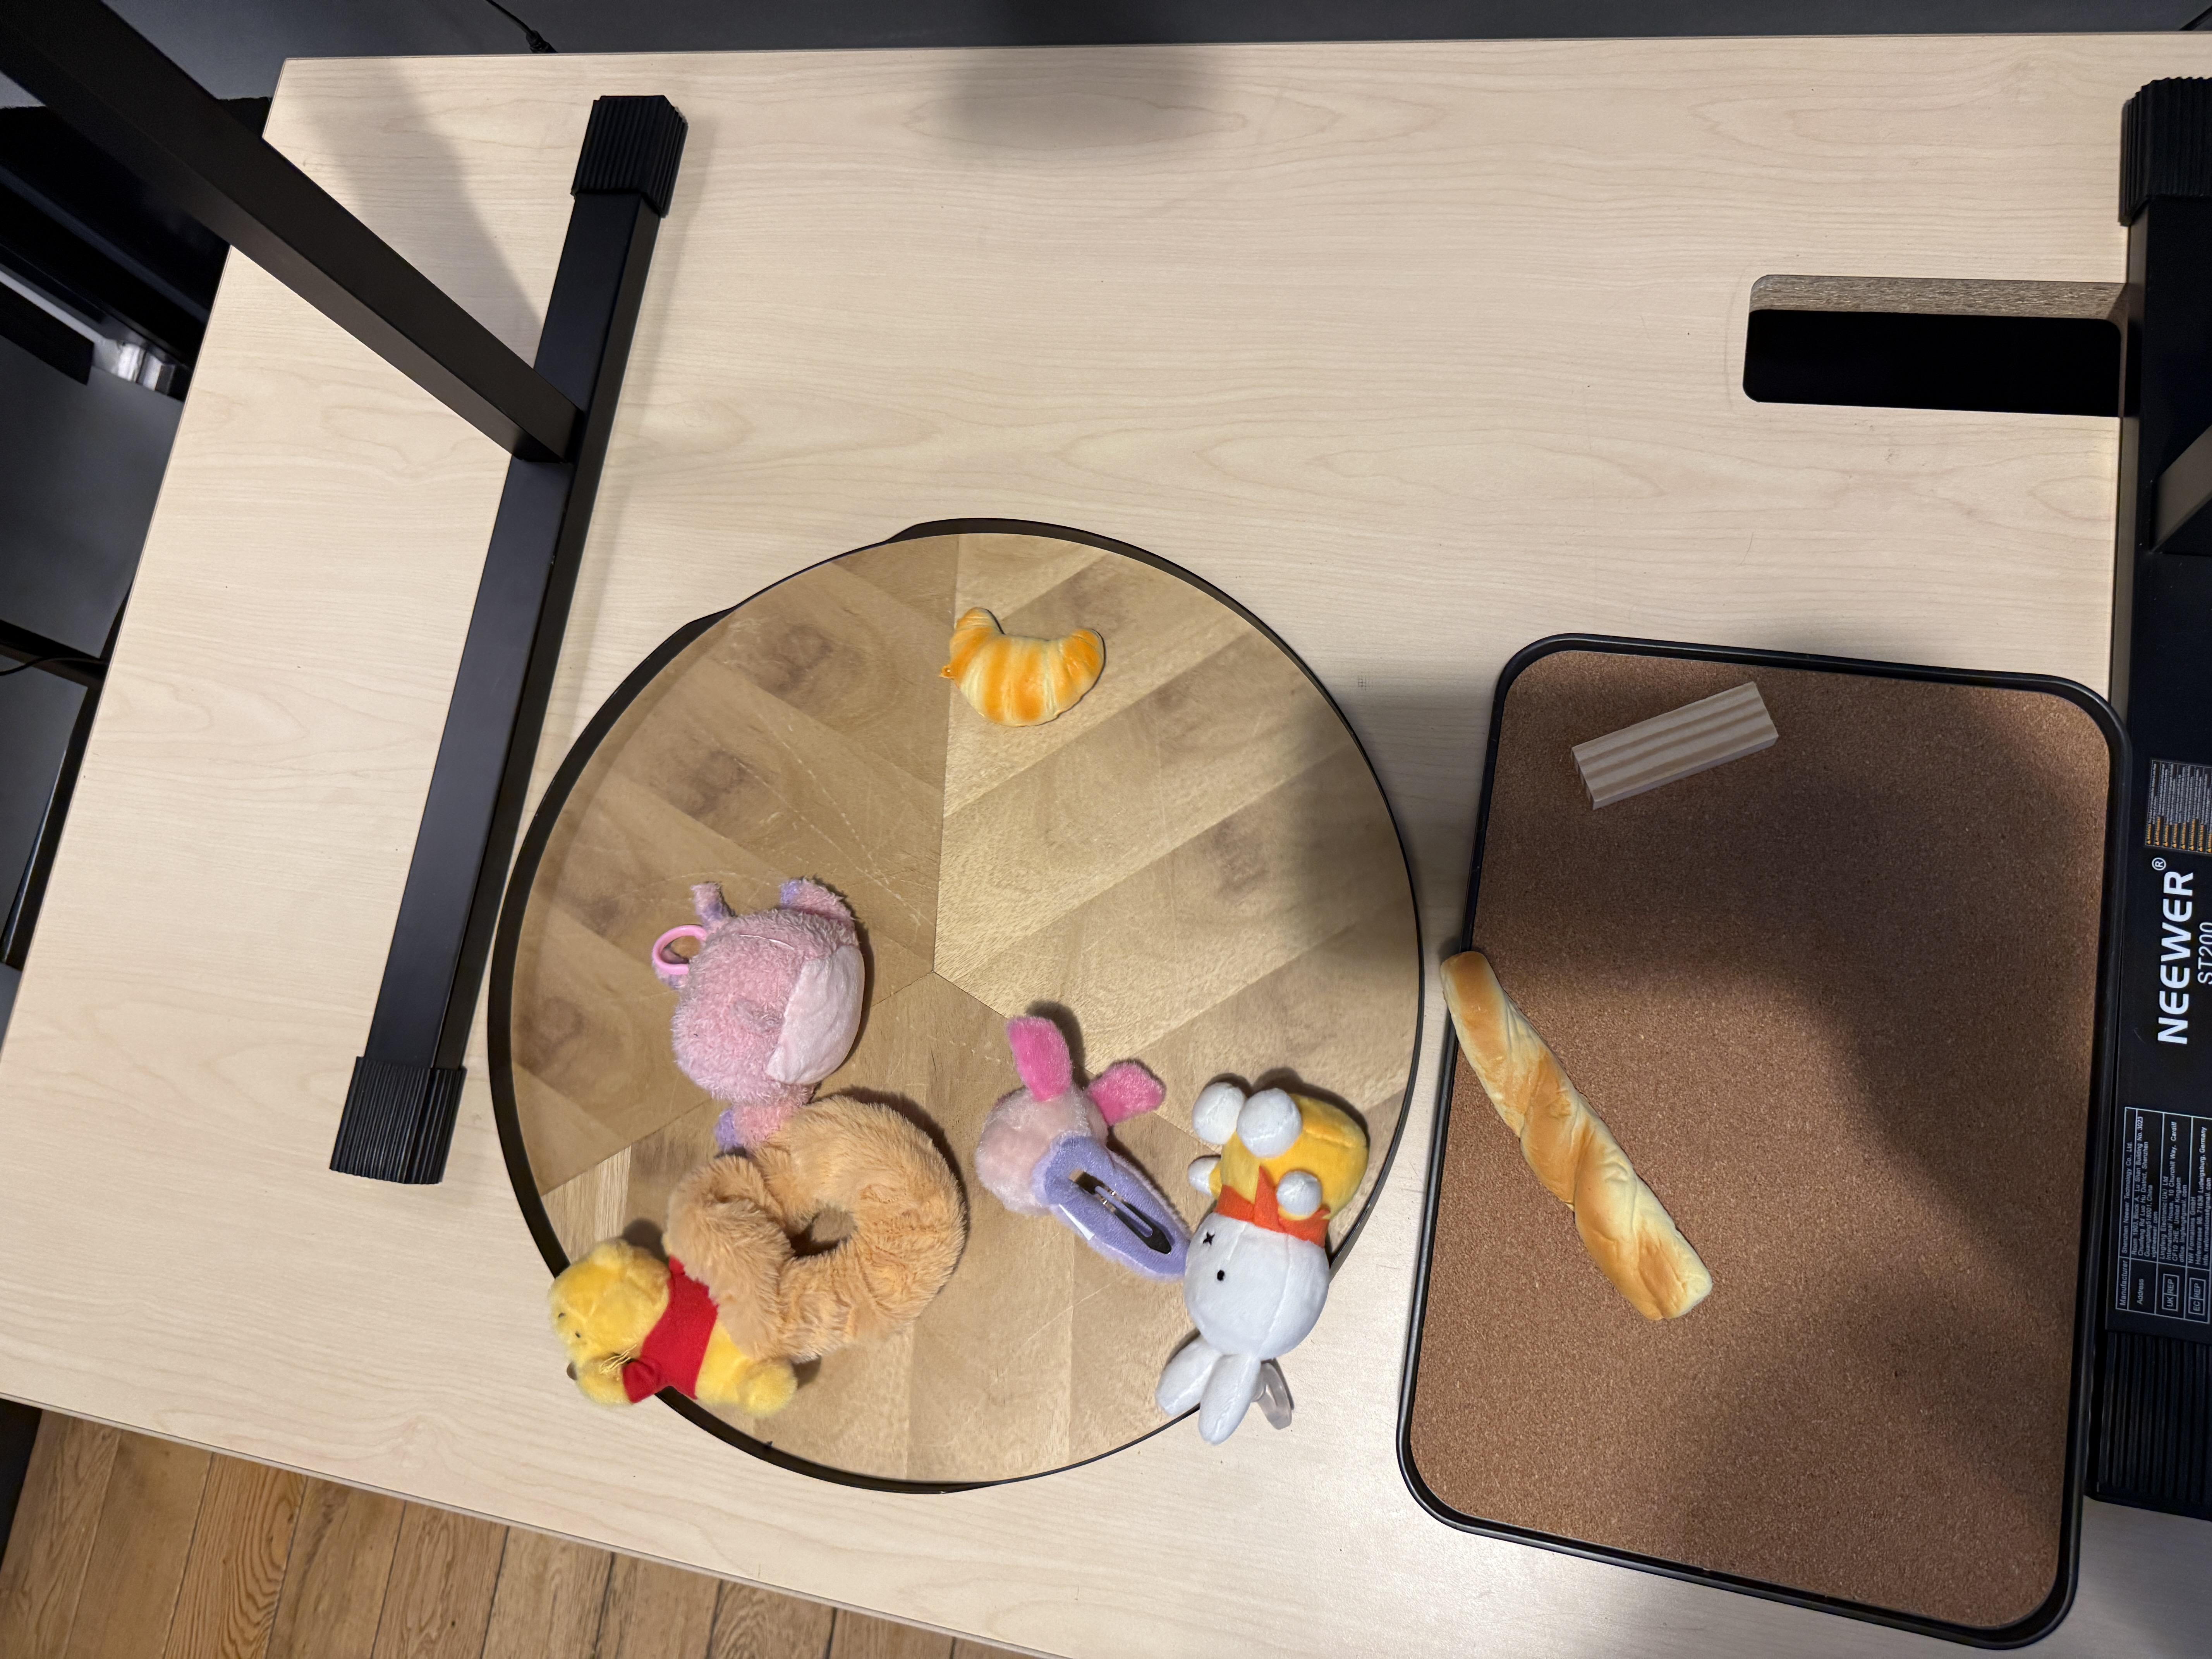block: (1571, 678, 1782, 817)
bread: (1440, 951, 1716, 1323), (946, 605, 1106, 734)
doll: (557, 1100, 967, 1422), (1151, 1075, 1372, 1443), (981, 1007, 1200, 1276), (660, 871, 873, 1148)
